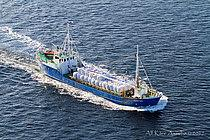Ship: (34, 18, 173, 116)
